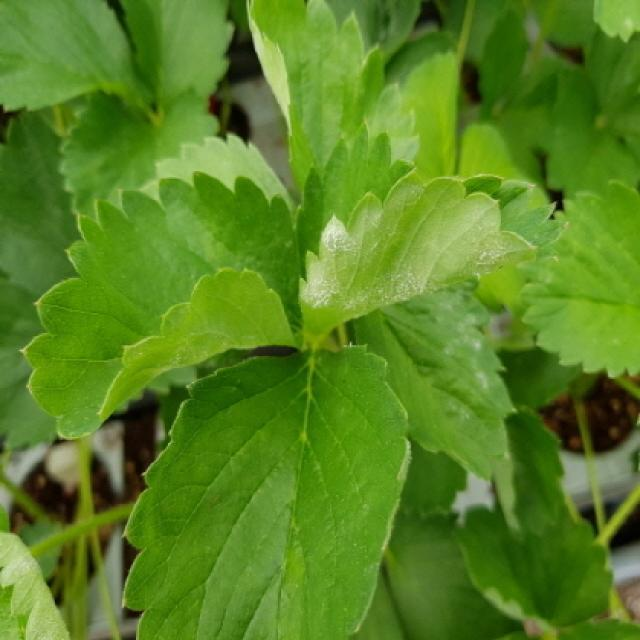powdery_mildew_leaf: (293, 118, 571, 351), (350, 275, 516, 484), (246, 0, 421, 191), (0, 522, 72, 638)
